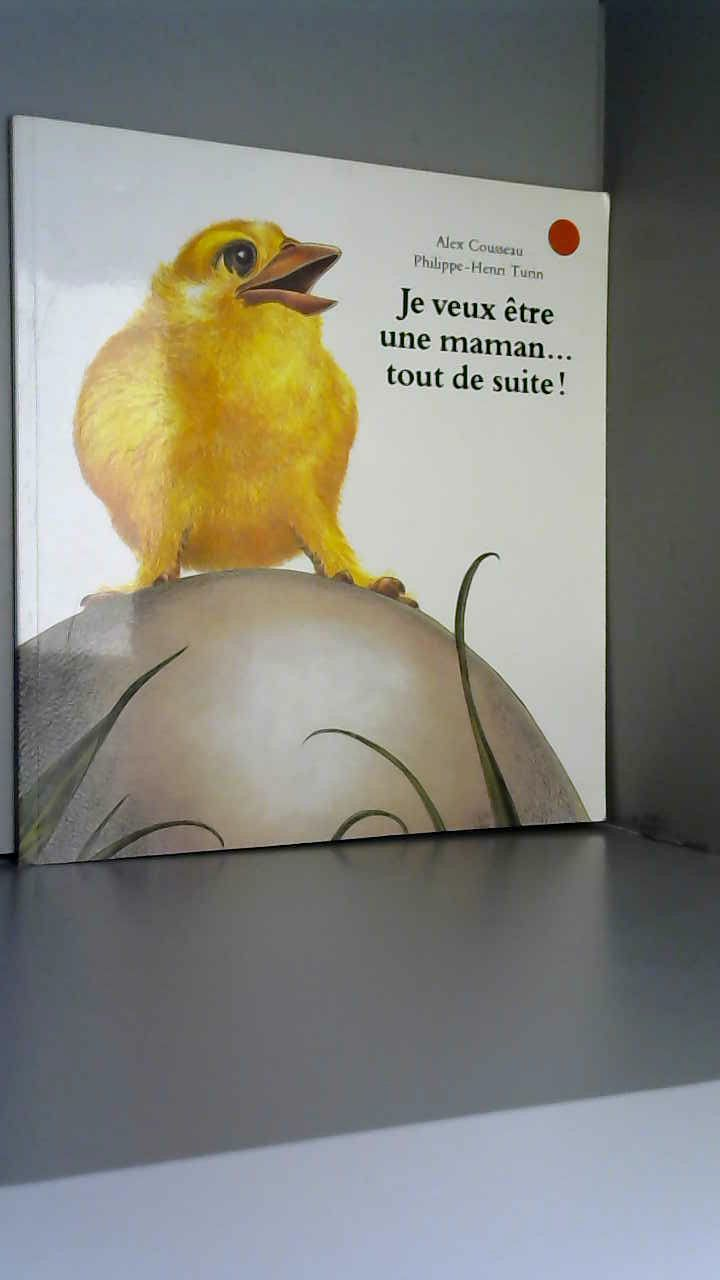book: (0, 86, 654, 894)
